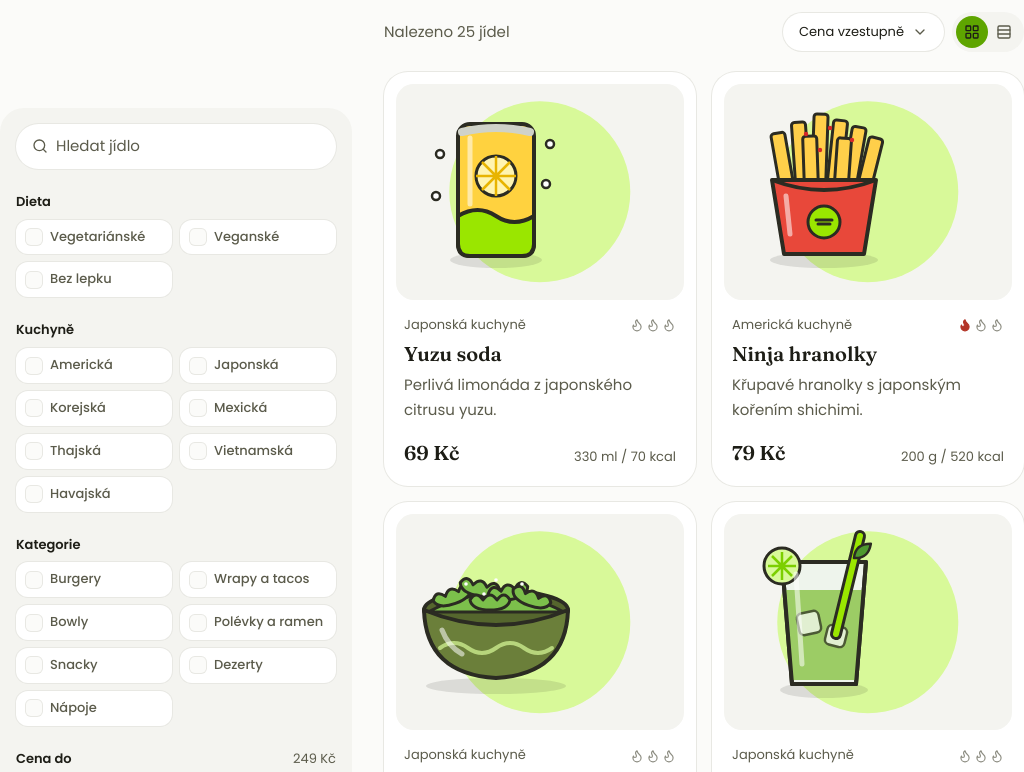
it: DishCatalog › shows an empty state when filters match nothing
Type "vrtulnik" into the search field labelled "Hledat jídlo" at [176, 146], box [16,124,336,169]
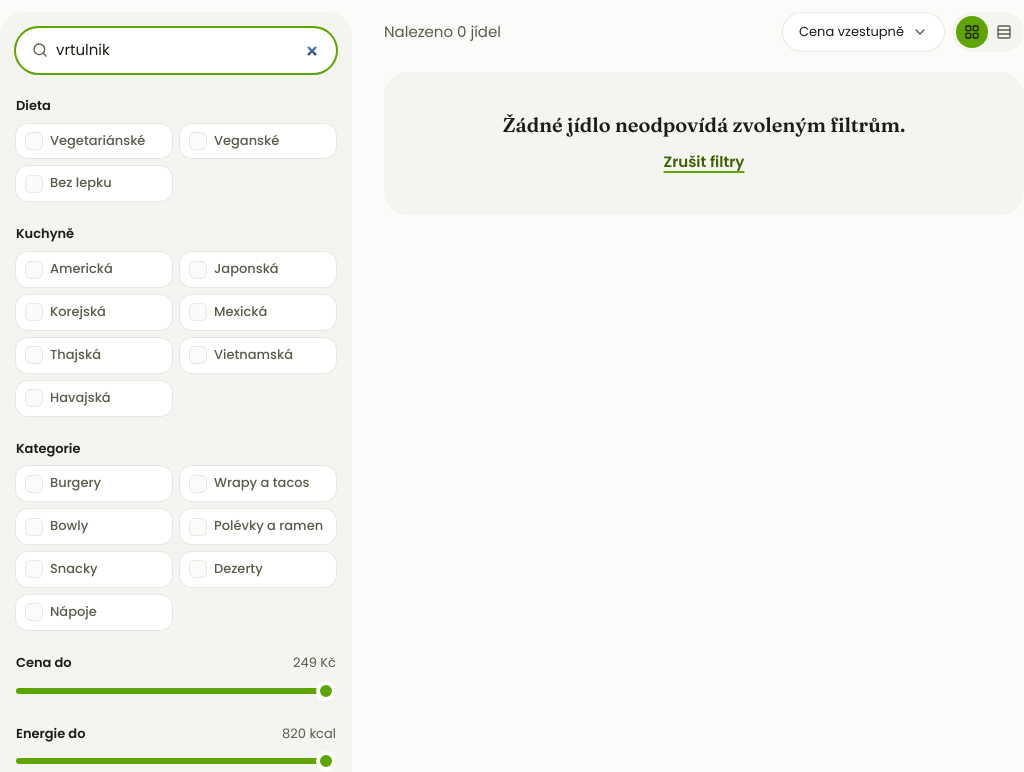
Expected: the text "Žádné jídlo neodpovídá zvoleným filtrům." is shown, [503,112,905,137]
